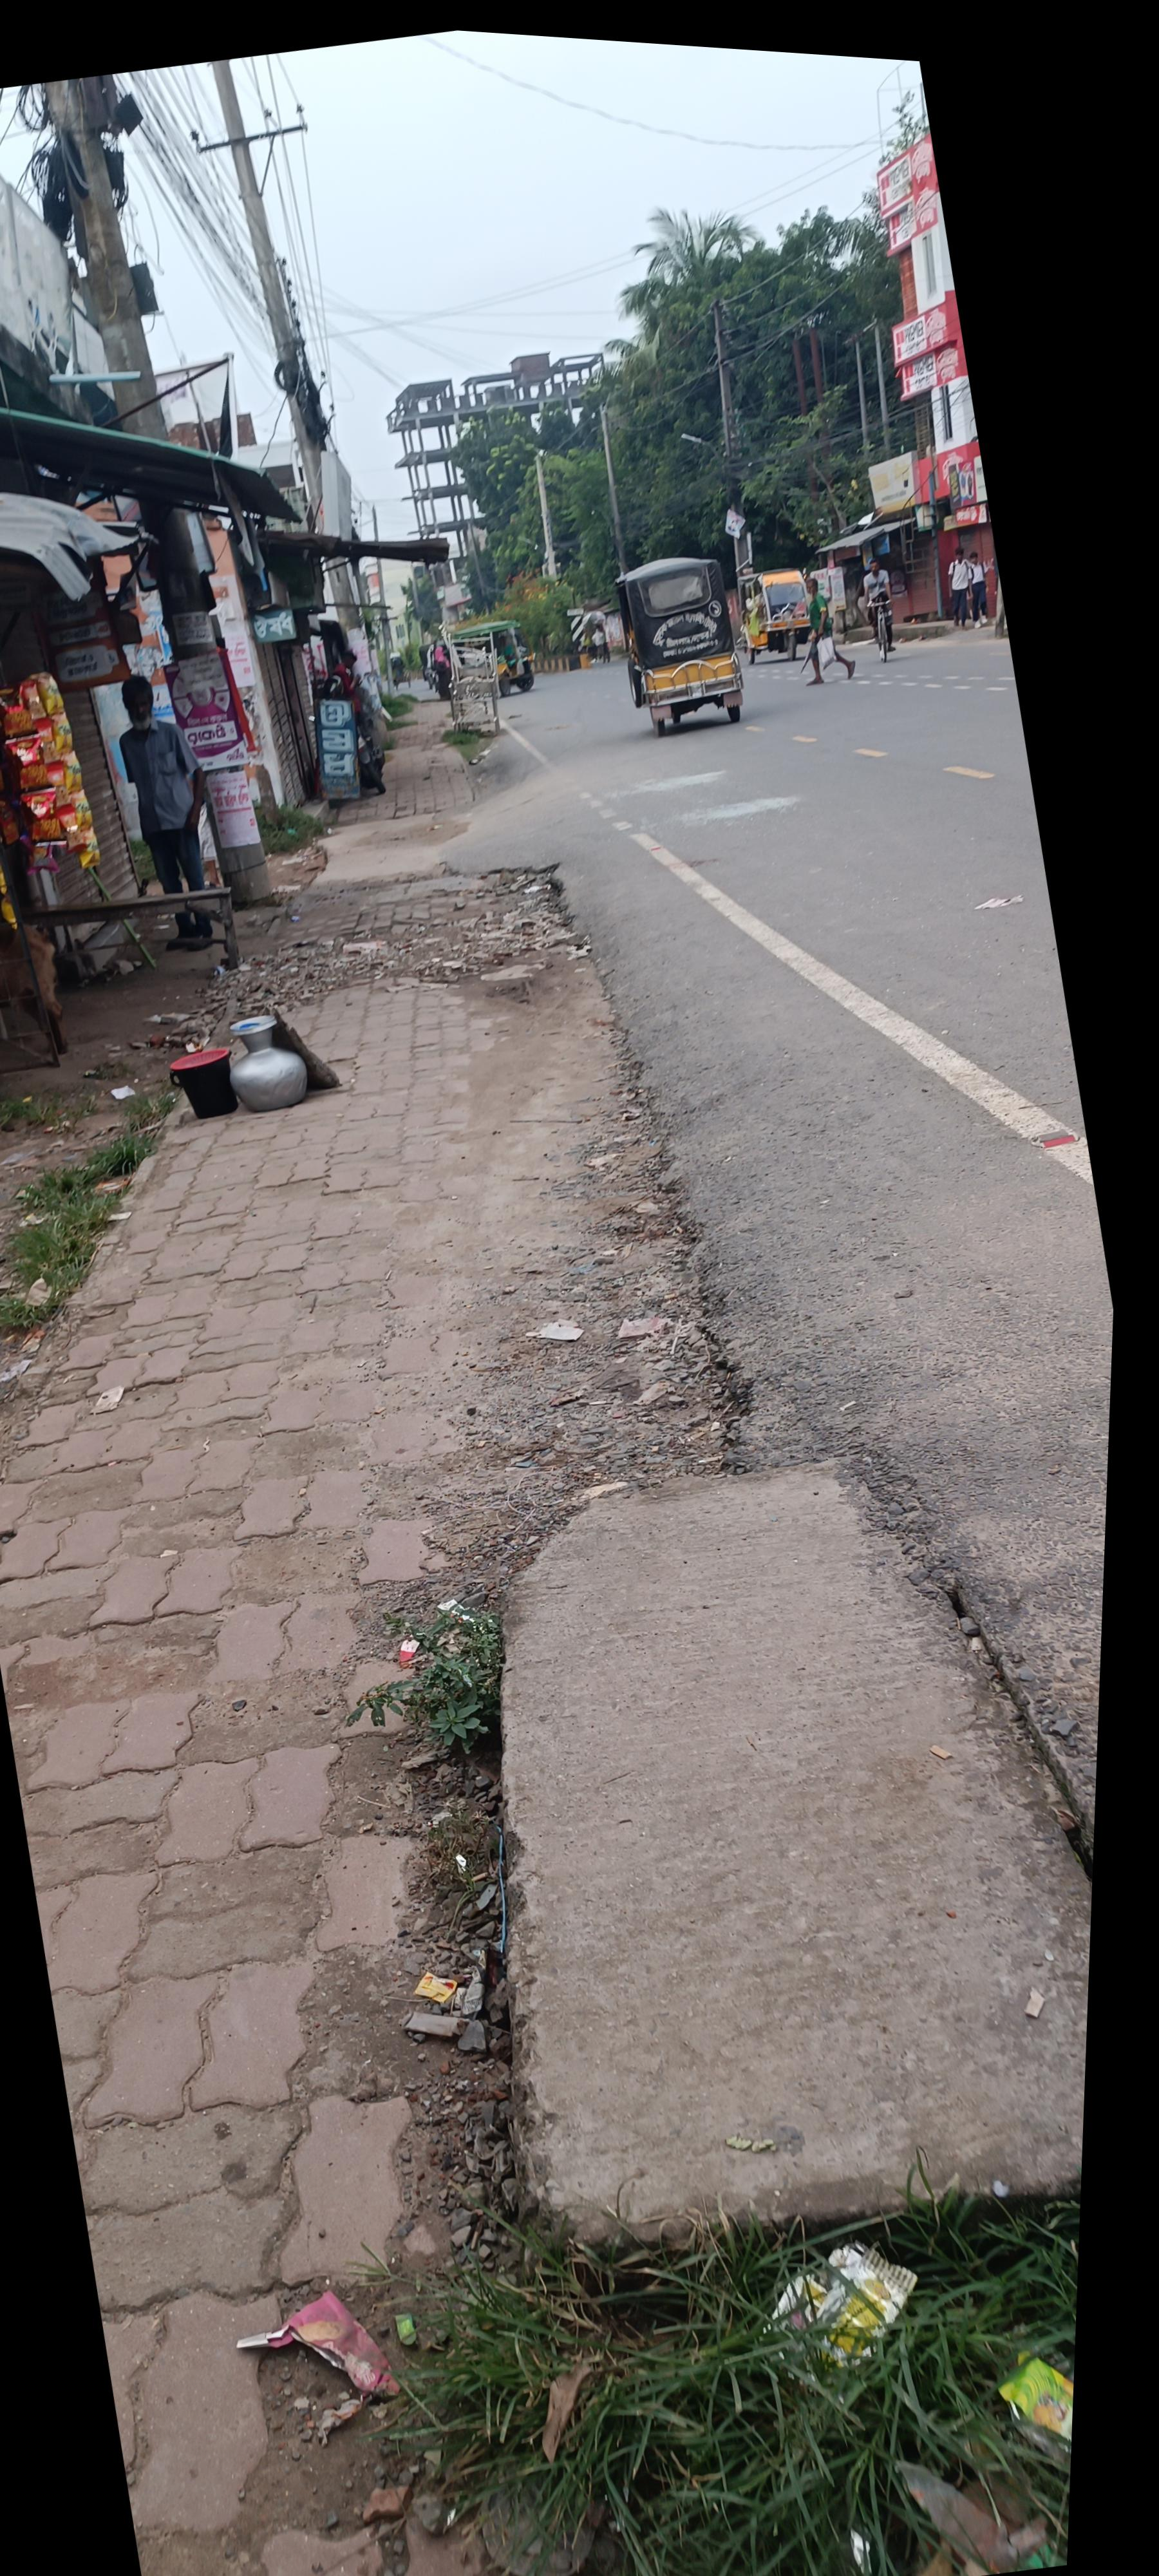Dog: (548, 2326, 724, 2486)
Garbage-bin: (563, 675, 637, 790), (0, 780, 20, 1069), (629, 659, 680, 762), (717, 646, 762, 733)
Pothole: (0, 1143, 663, 2576)
Traffic-cone: (223, 723, 318, 813)
